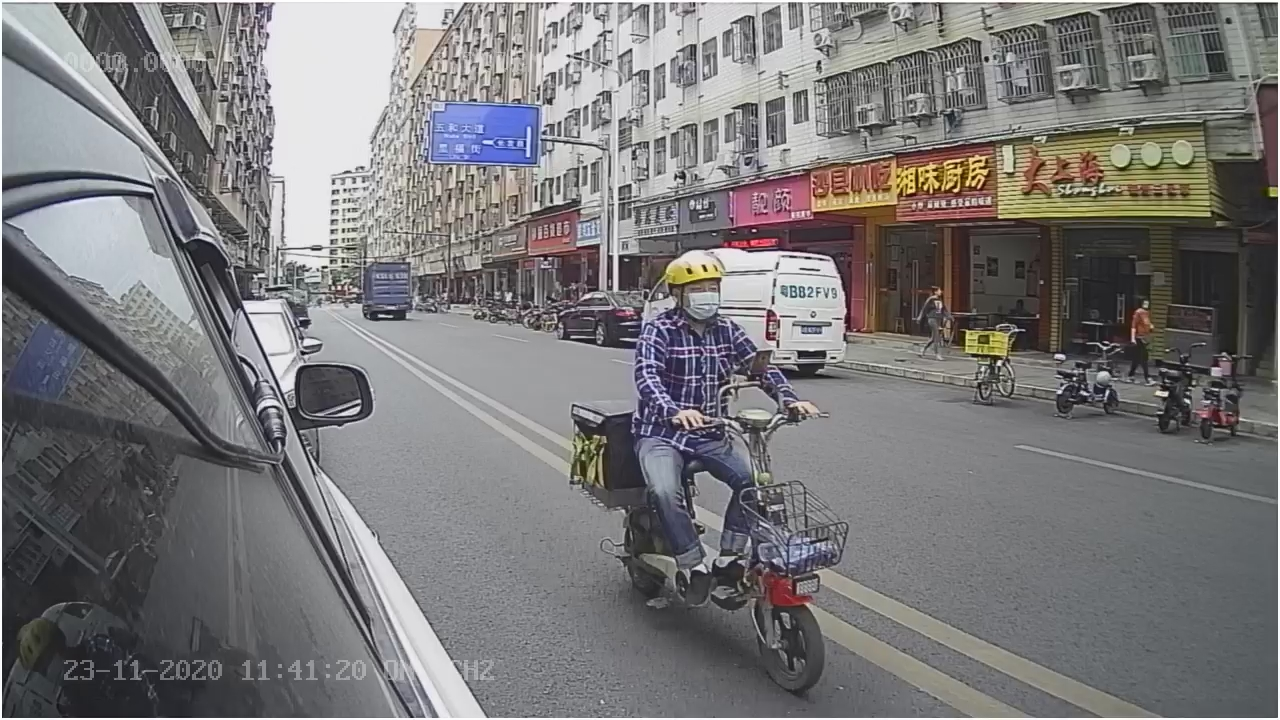person: (623, 251, 804, 407)
